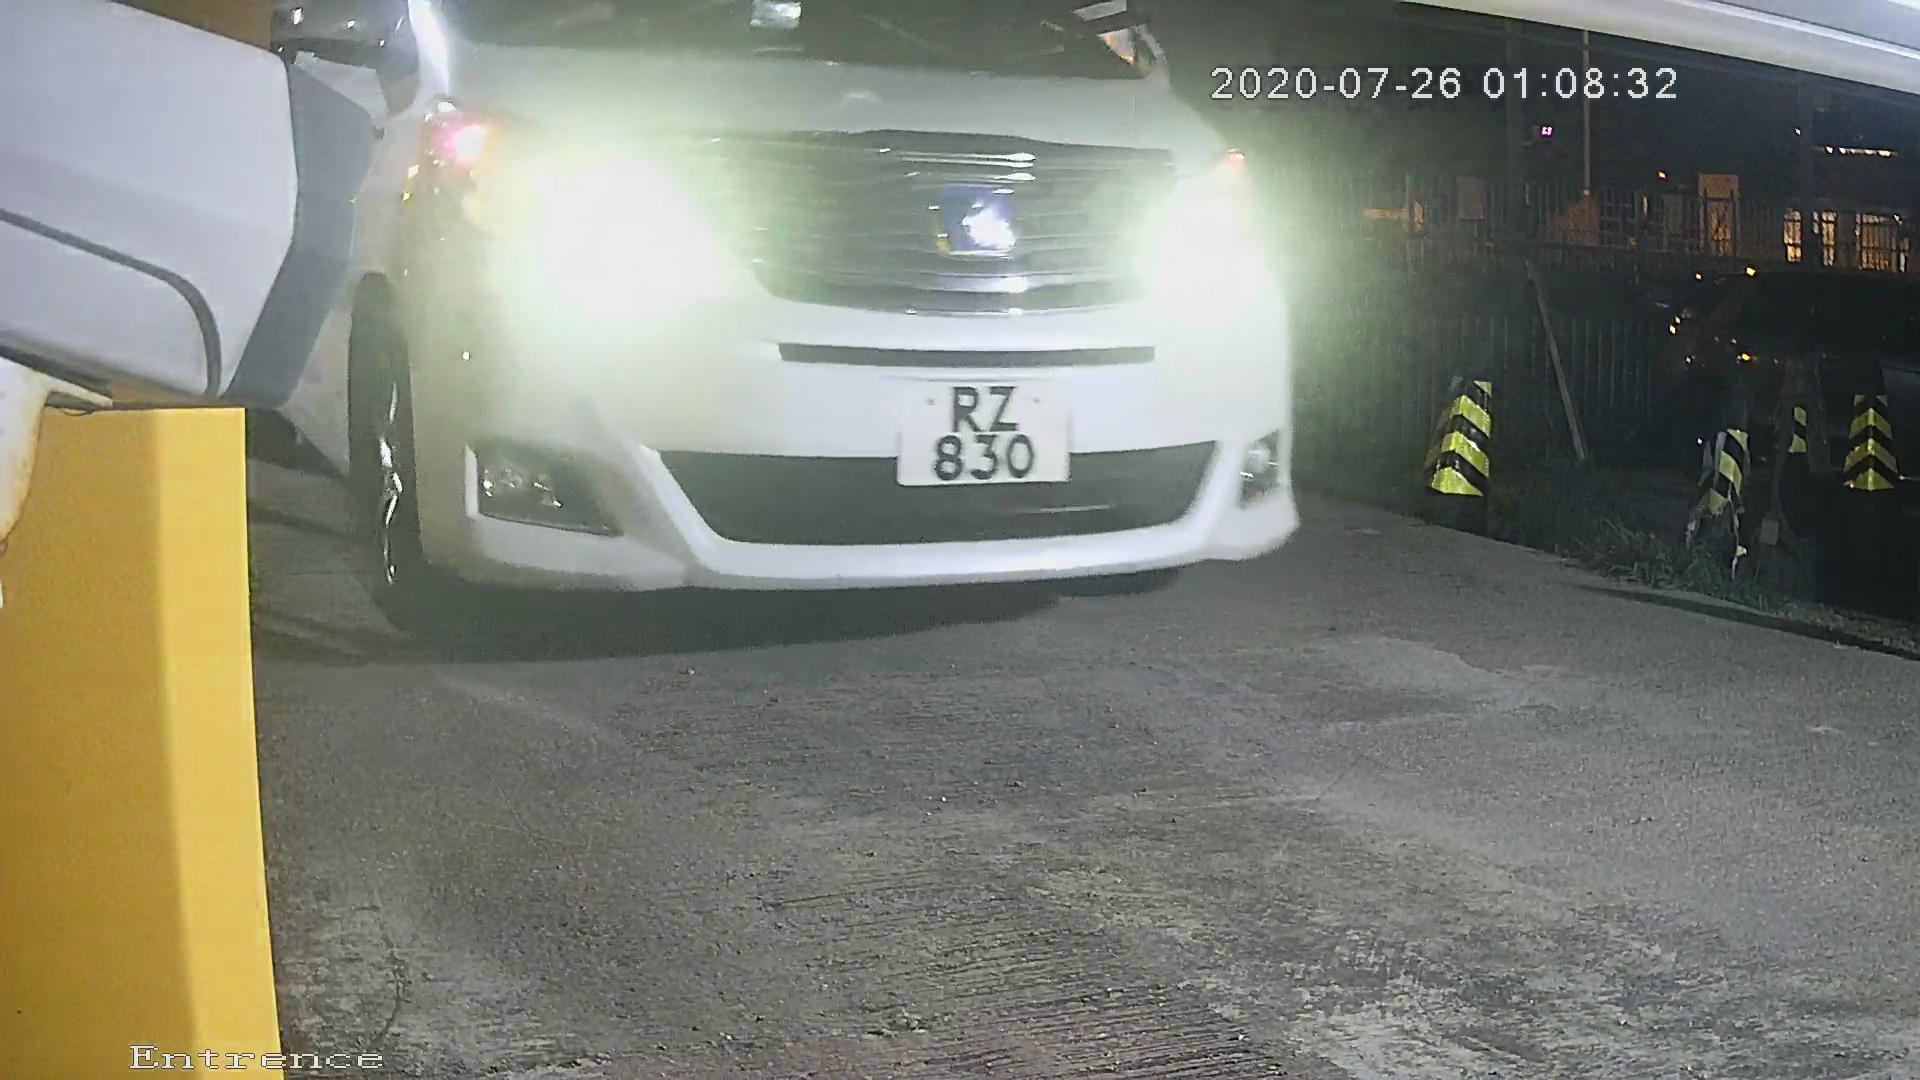Car: (198, 10, 1483, 690)
License Plate: (866, 362, 1089, 507)
